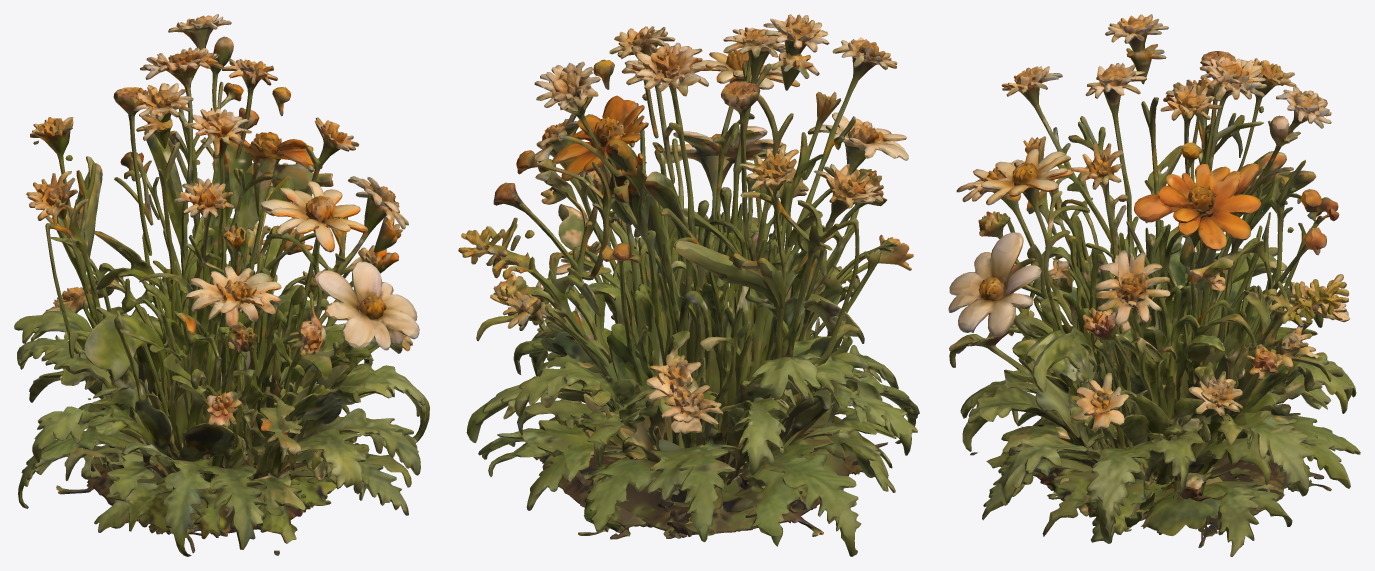
Rendered from Flowers_01.fbx.
3 views of the same model, side by side, from view 1: azimuth 30°, elevation 25°; view 2: azimuth 150°, elevation 25°; view 3: azimuth 270°, elevation 25° (orthographic). The views are drawn at different scales.
Visible parts, largest first — view 1: geometry_0; view 2: geometry_0; view 3: geometry_0.
Part boxes in pixels (x1=…): geometry_0: x1=14, y1=14, x2=429, y2=556; geometry_0: x1=458, y1=14, x2=919, y2=556; geometry_0: x1=948, y1=14, x2=1360, y2=556.
Bounding box in the file's own units: 50.02 × 55 × 47.63.
